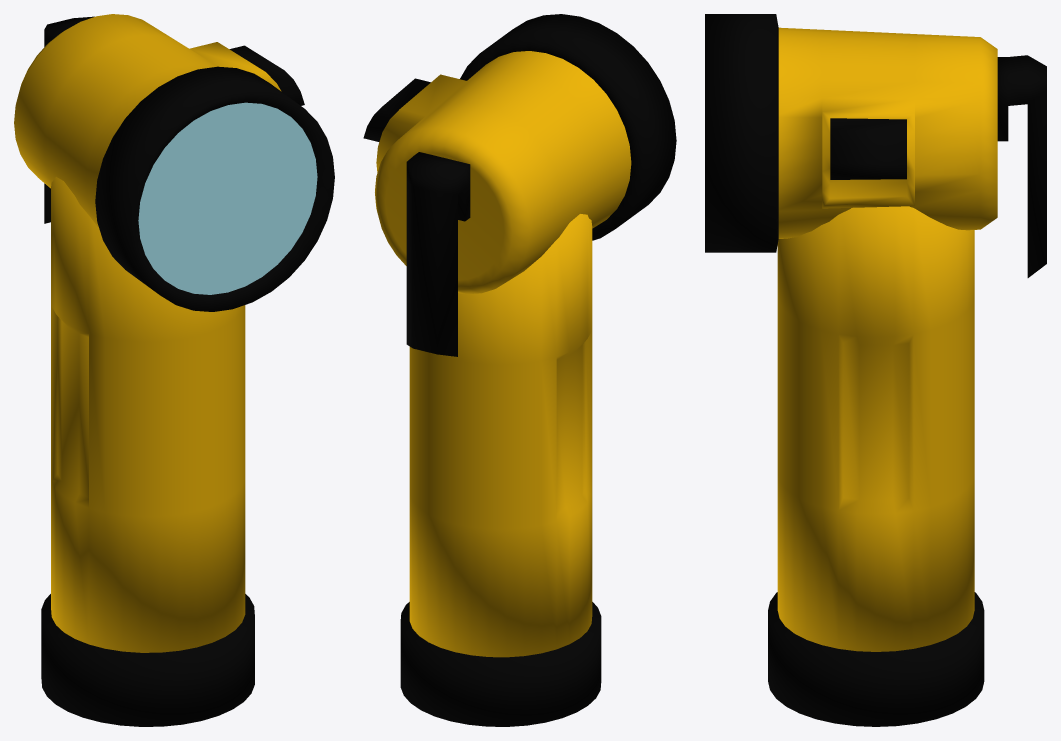
Rendered from flashlight.glb.
3 renders of one model, left to right at view 1: azimuth 30°, elevation 25°; view 2: azimuth 150°, elevation 25°; view 3: azimuth 270°, elevation 25°, orthographic. The views are drawn at different scales.
Visible parts, largest first — view 1: Flashlight; view 2: Flashlight; view 3: Flashlight.
Boxes of the visible parts, x1,y1,x2,y2 form: Flashlight: (14, 14, 334, 726); Flashlight: (363, 14, 676, 726); Flashlight: (705, 14, 1046, 726).
Bounding box in the file's own units: 1.68 × 4.4 × 2.07.
